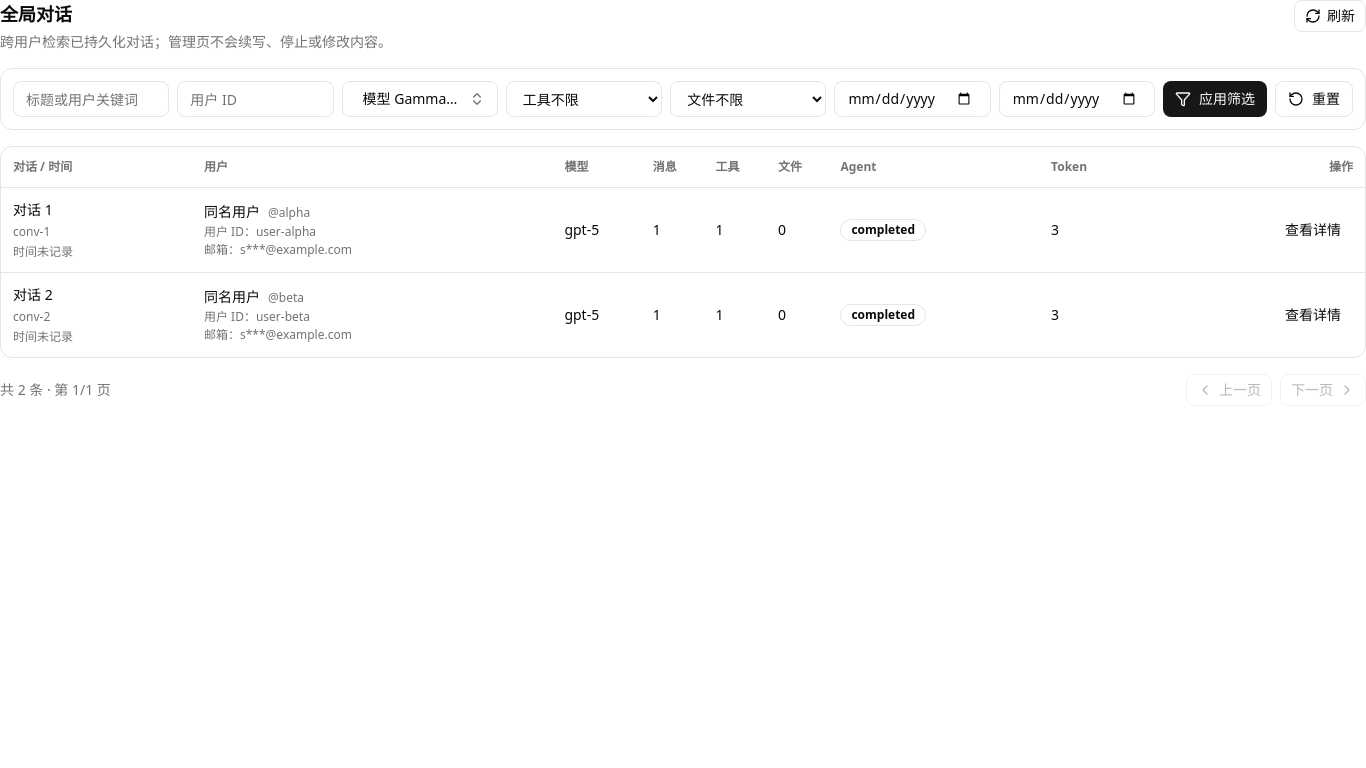
Test: AdminConversationsPanel › 模型结果异步插入和重排后 Enter 仍选择高亮的同一模型
Click the dropdown named "模型筛选". click: [420, 99]
box: [342,81,498,117]
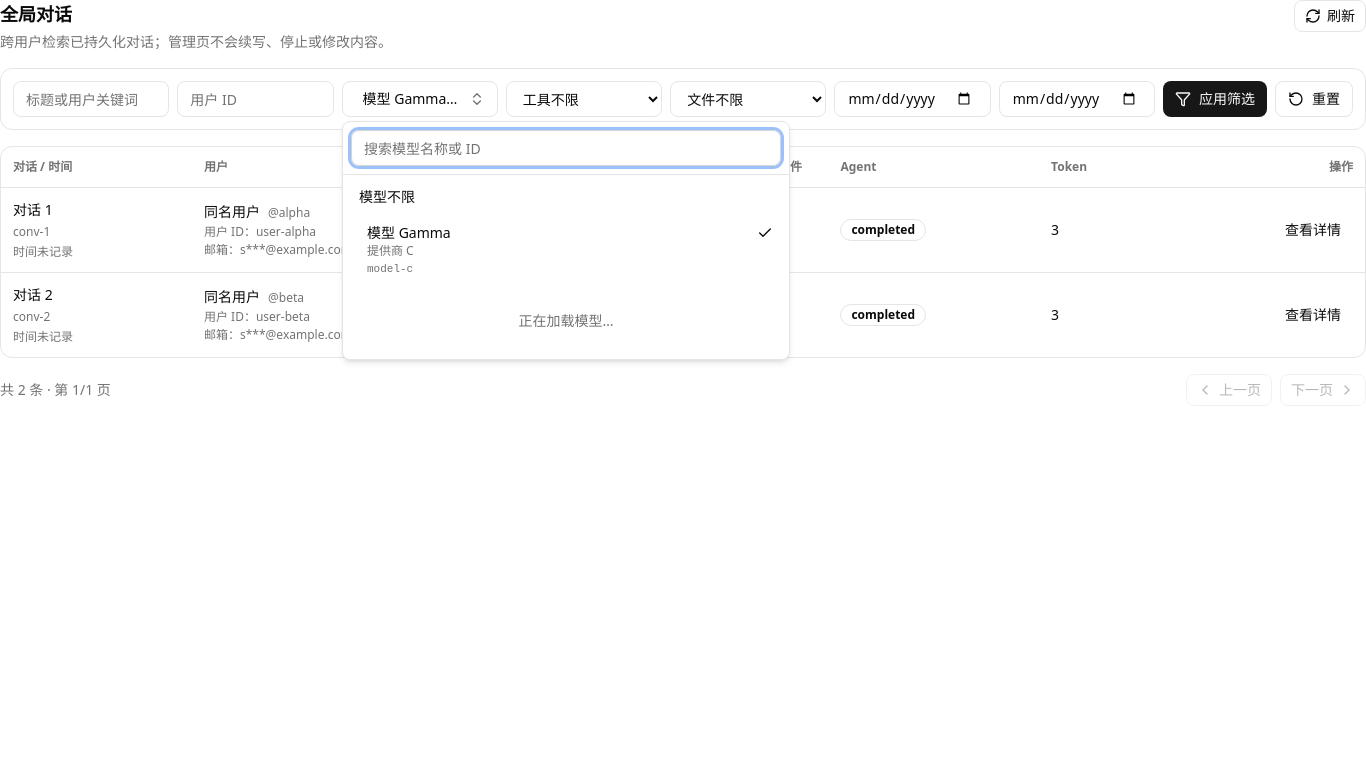
Press ArrowDown in the search field labelled "搜索模型", box [351,130,781,166]
Press ArrowDown in the search field labelled "搜索模型", box [351,130,781,166]
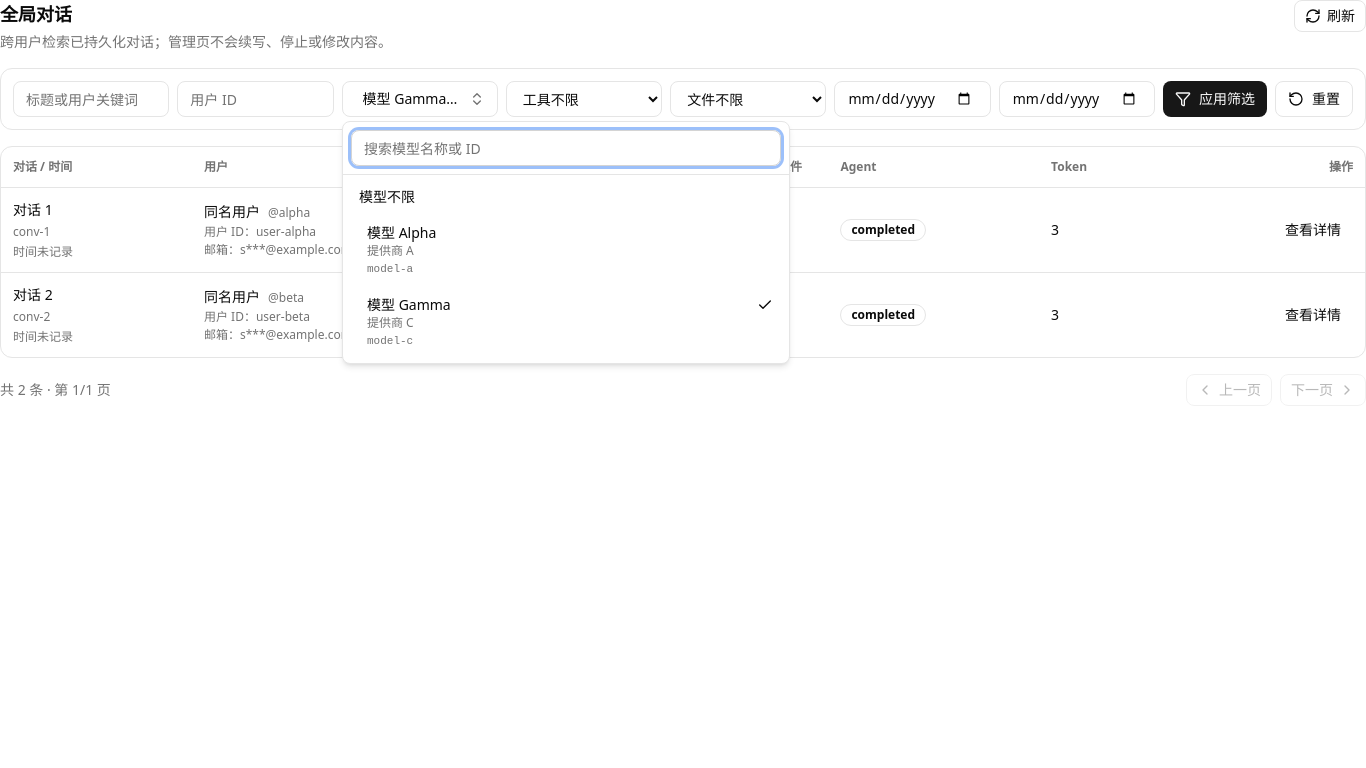
Expected: the option "模型 Alpha 提供商 A model-a" is shown, [347,215,785,287]
Press Enter in the search field labelled "搜索模型", box [351,130,781,166]
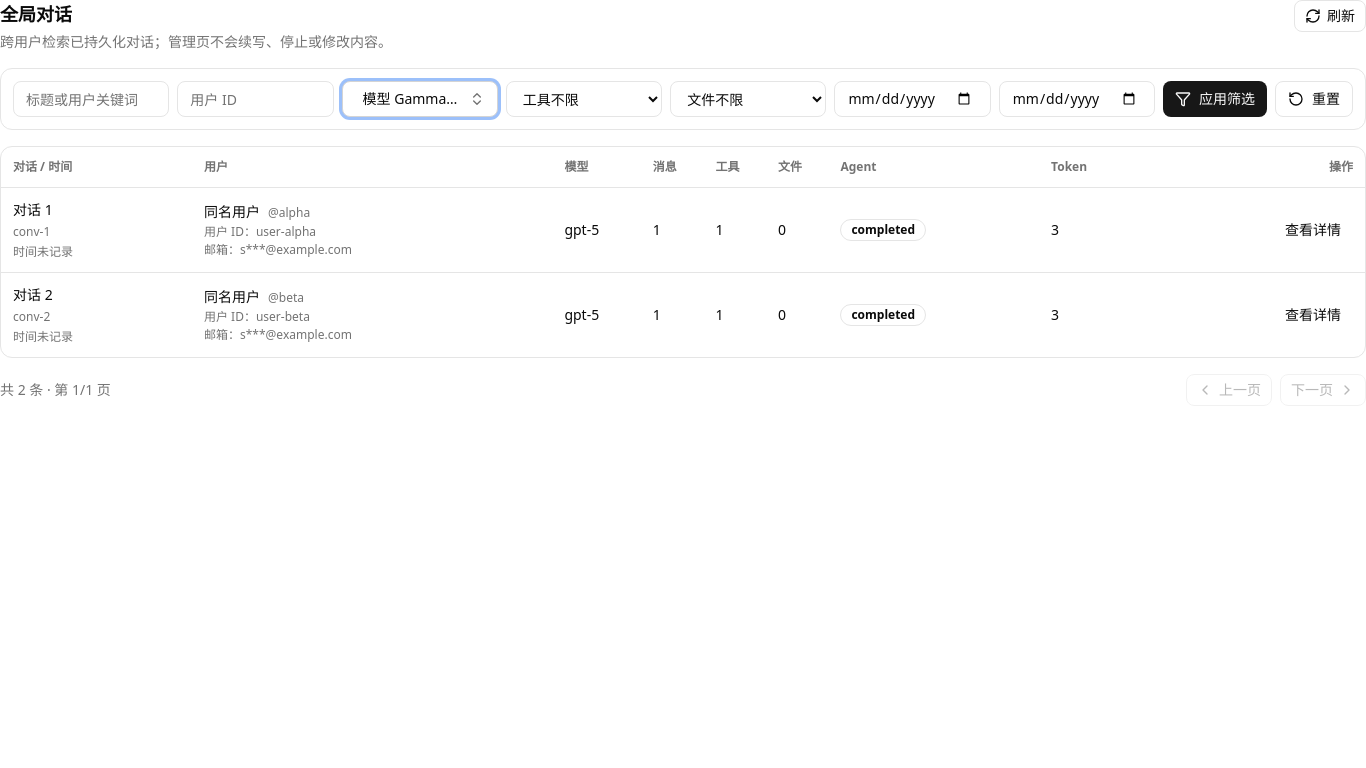
Expected: the dropdown named "模型筛选" shows "模型 Gamma", [342,81,498,117]
Expected: the dropdown named "模型筛选" no longer shows "模型 Alpha", [342,81,498,117]
